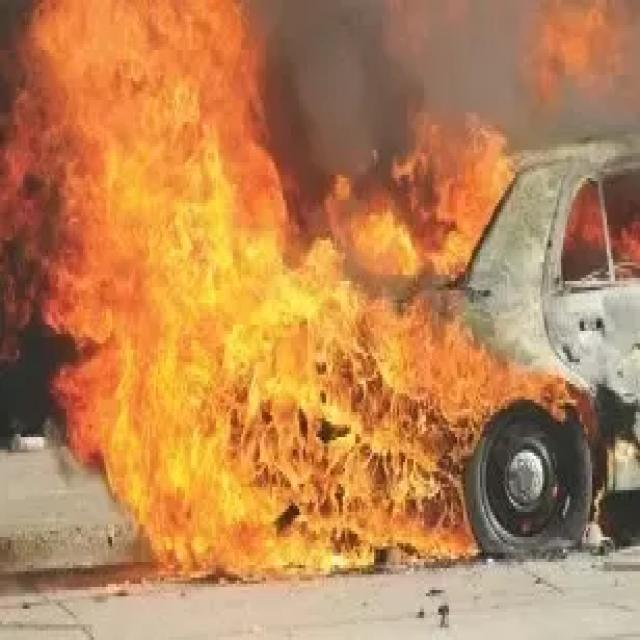fire: (33, 0, 520, 562)
